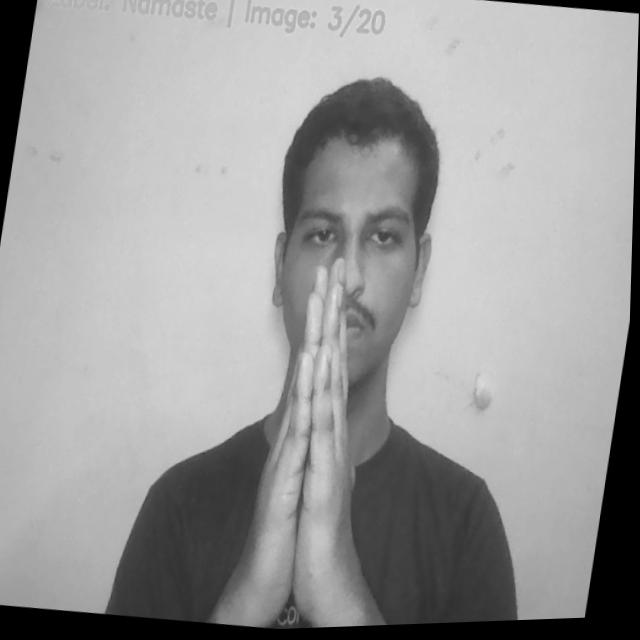Namaste: (241, 257, 387, 633)
